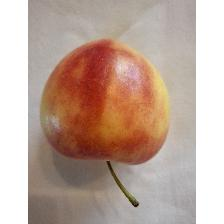Apfel: (38, 34, 172, 208)
